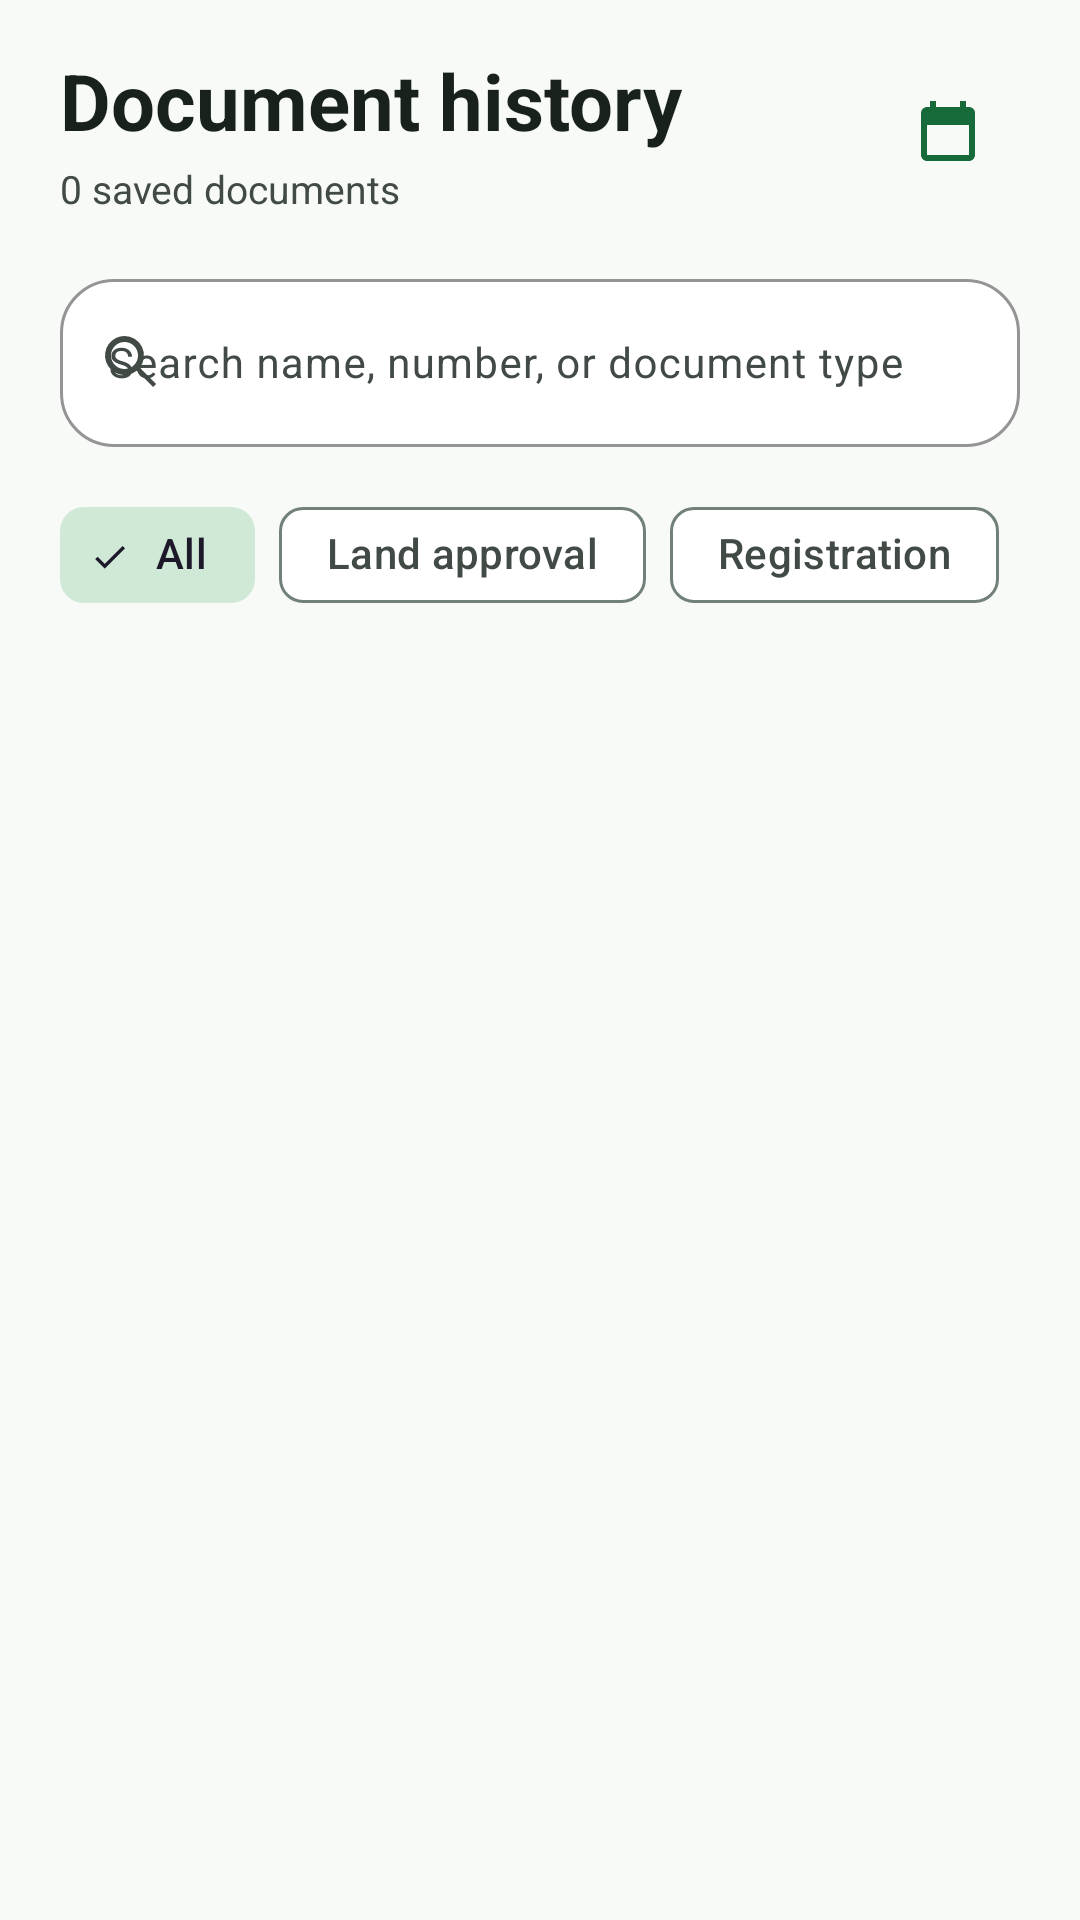

Locate icon controls on the screen. Image size 1080px x 1920px, boxes as (left=x1, top=y1, right=x2, bottom=y2).
Filter by date: (left=921, top=101, right=975, bottom=161)
